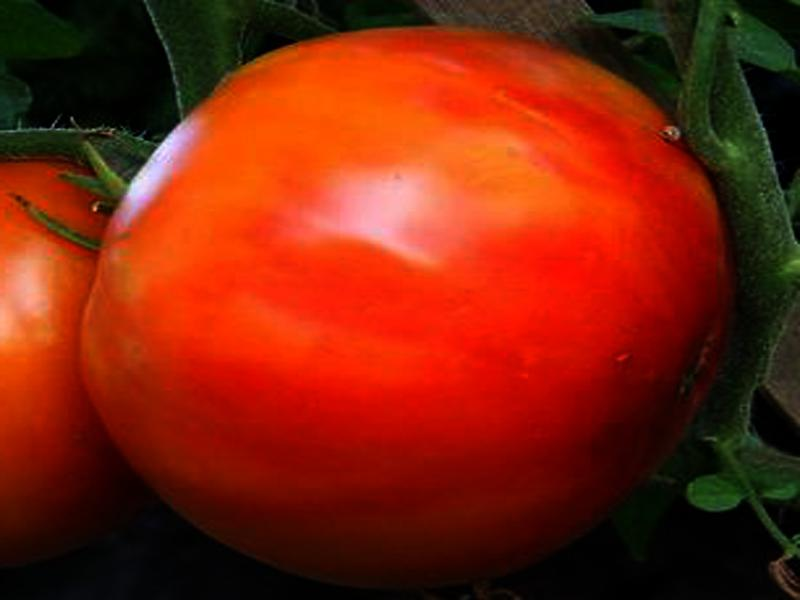Tomato: (88, 26, 731, 588)
